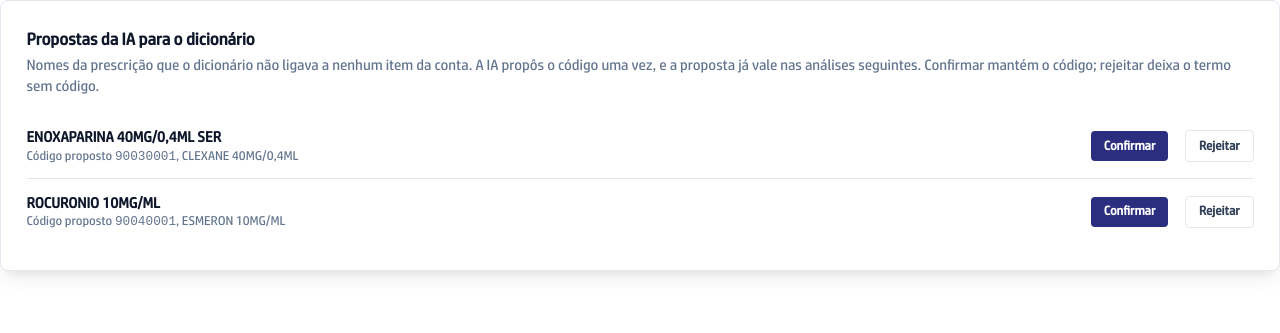
Test: as propostas da IA para o dicionário › a decisão recusada pelo servidor mostra o motivo e a linha fica
This screenshot has width=1280, height=333.
Click the button "Confirmar" in the row of "ENOXAPARINA 40MG/0,4ML SER" at (1130, 146), box [1091,131,1168,161]
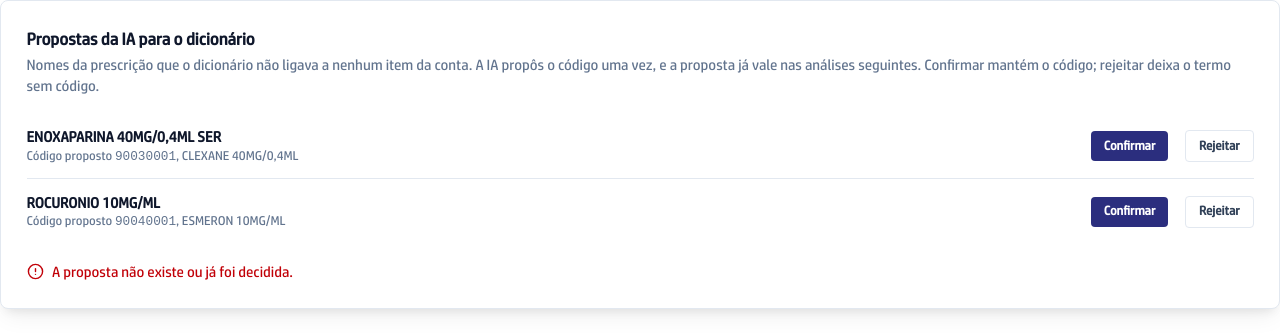
Expected: the list item with test id "proposta-p-1" is shown, [26,114,1254,179]
Now the message reads "A proposta não existe ou já foi decidida.", box [52,263,293,280]
